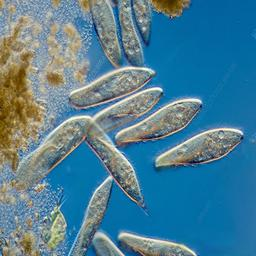Paramecium: (15, 117, 92, 190), (87, 124, 146, 207), (116, 99, 203, 148), (69, 67, 156, 109), (154, 128, 244, 168), (69, 175, 114, 255), (95, 87, 164, 131), (90, 1, 122, 67), (118, 230, 197, 256), (117, 0, 144, 65), (92, 232, 125, 256), (134, 1, 152, 45)
